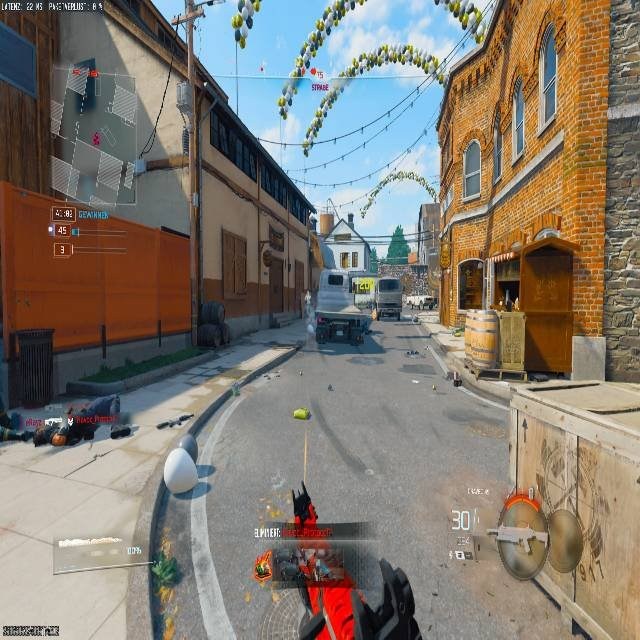player: (195, 298, 230, 350)
